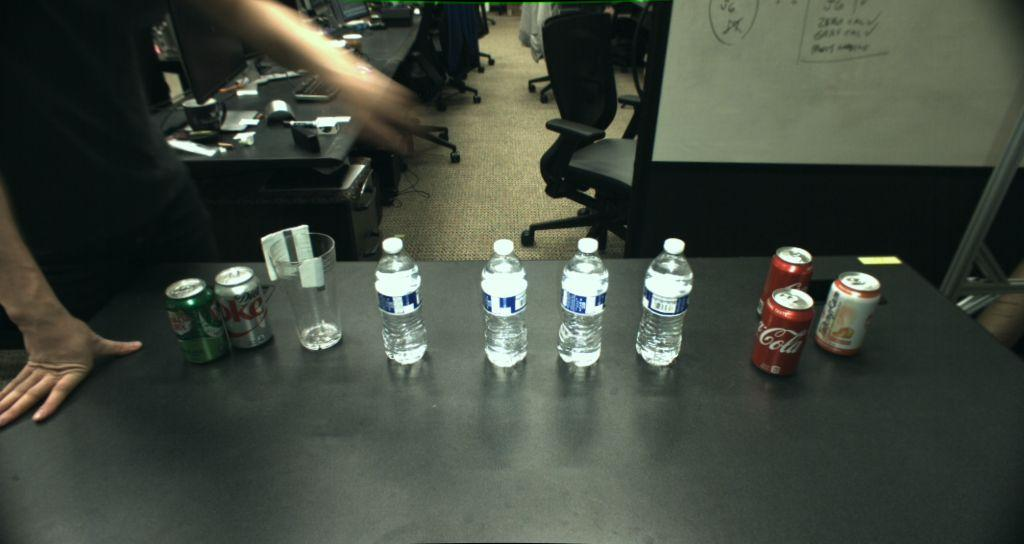can_coke: (752, 288, 813, 377)
can_diet_coke: (214, 265, 274, 349)
can_ginger_ale: (166, 277, 231, 365)
can_talking_rain_peach_nectarine: (816, 270, 881, 355)
water_bottle: (634, 237, 693, 366), (374, 237, 428, 365), (557, 237, 608, 367), (481, 239, 527, 367)
